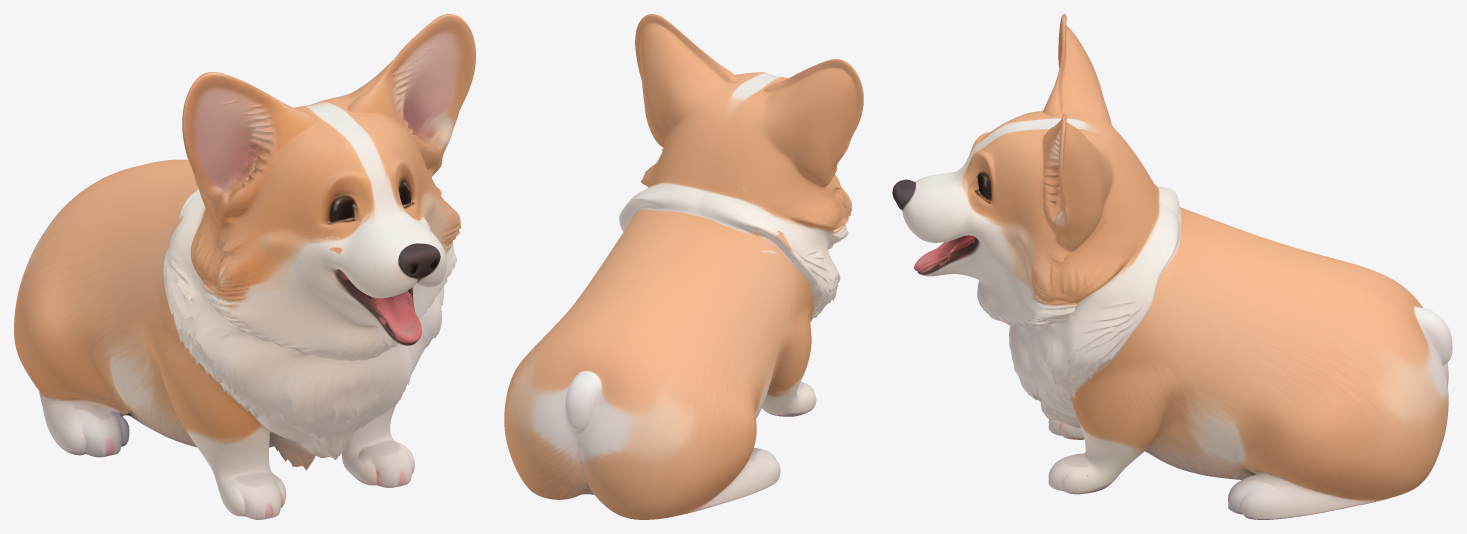
File: mina.glb
3 renders of one model, left to right at view 1: azimuth 30°, elevation 25°; view 2: azimuth 150°, elevation 25°; view 3: azimuth 270°, elevation 25°, orthographic. The views are drawn at different scales.
Visible parts, largest first — view 1: model; view 2: model; view 3: model.
Part boxes in pixels (x1=…): model: x1=14, y1=14, x2=475, y2=519; model: x1=504, y1=14, x2=863, y2=519; model: x1=892, y1=14, x2=1452, y2=519.
Size of the model in its own units: 1.02 by 1.47 by 1.9.
Materials: 1 (1 with a texture image).
